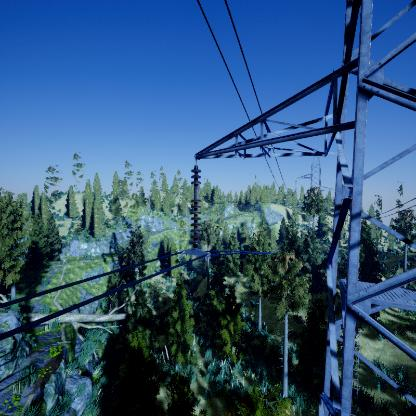insulator: (190, 168, 203, 249)
